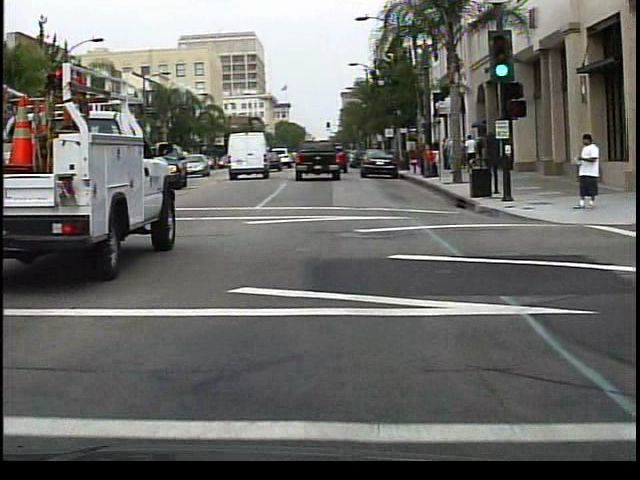person: (570, 135, 605, 216), (416, 141, 436, 180)
